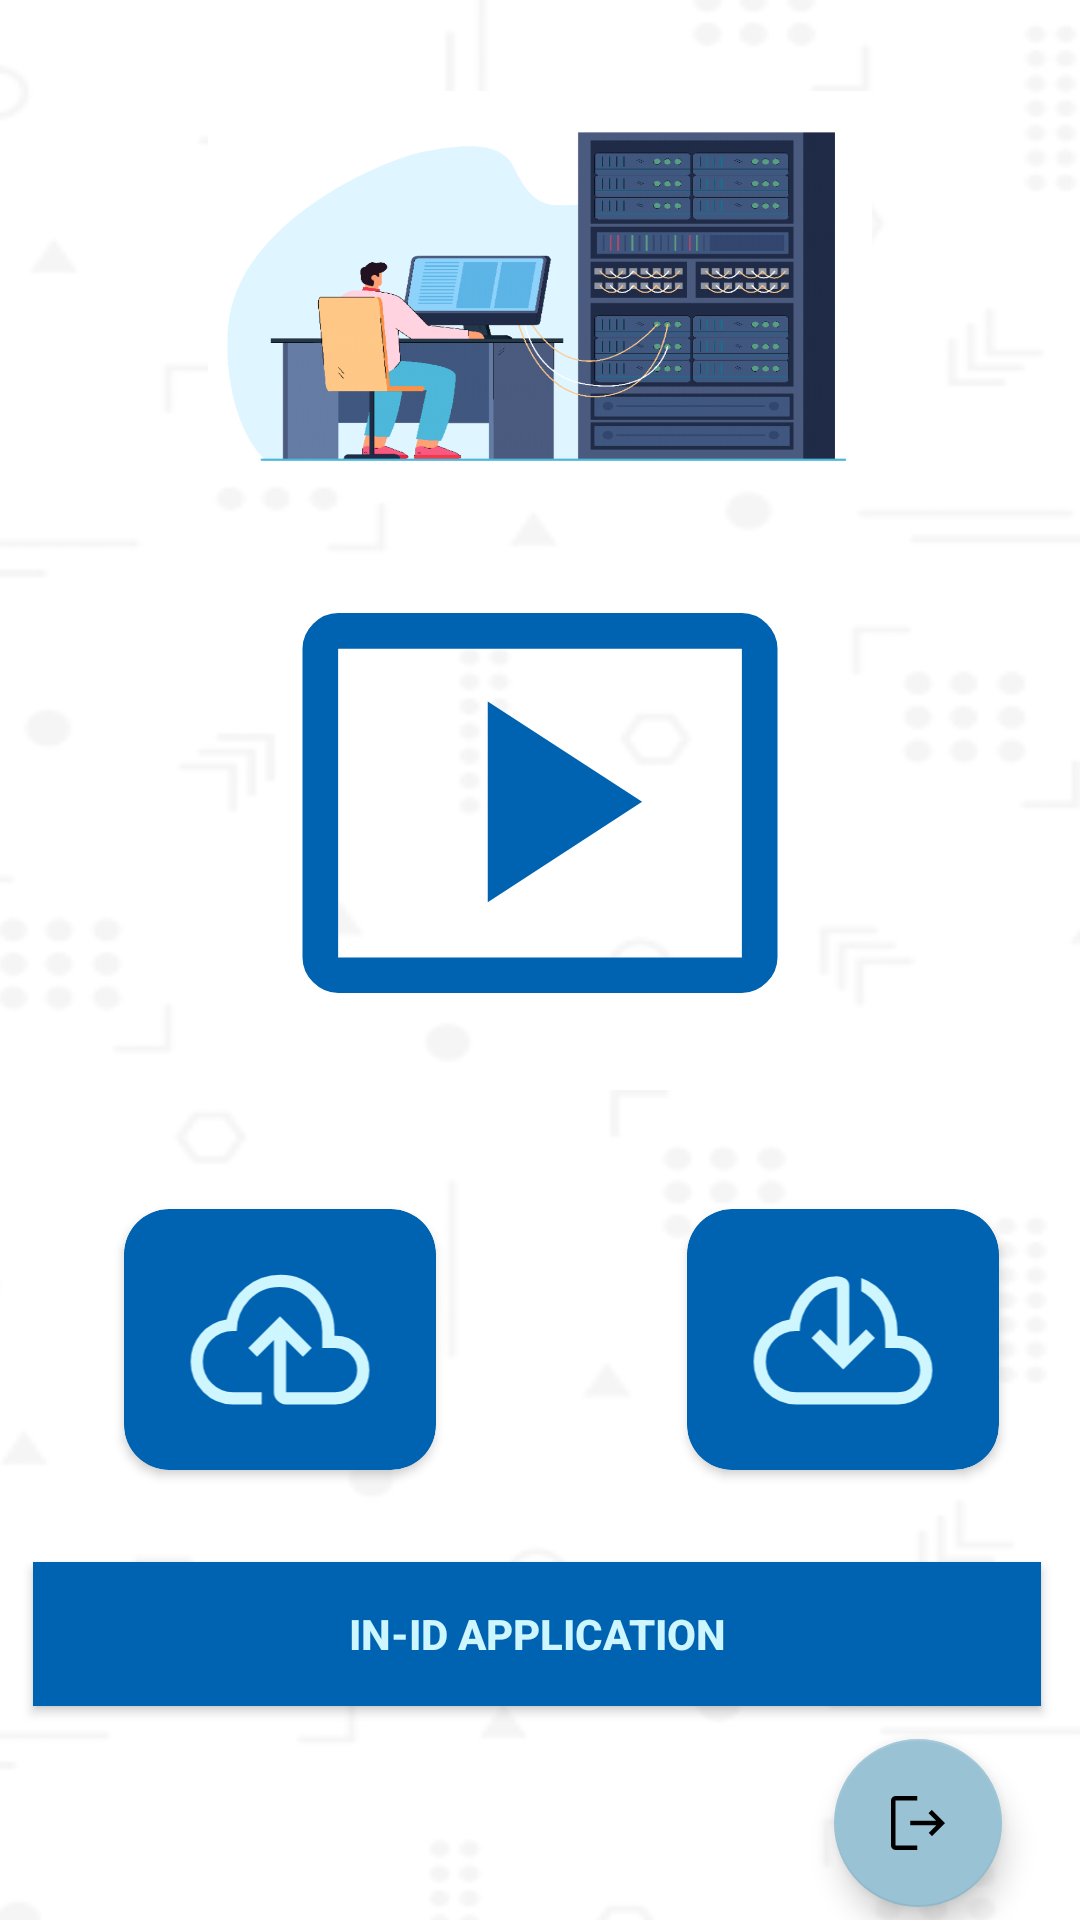

Where to tap for icons on this 1080px x 1920px app screen, as (x,y):
cloud download: (843,1340)
cloud upload: (280,1339)
